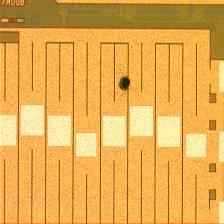PARTICLE: (115, 74, 135, 94)
